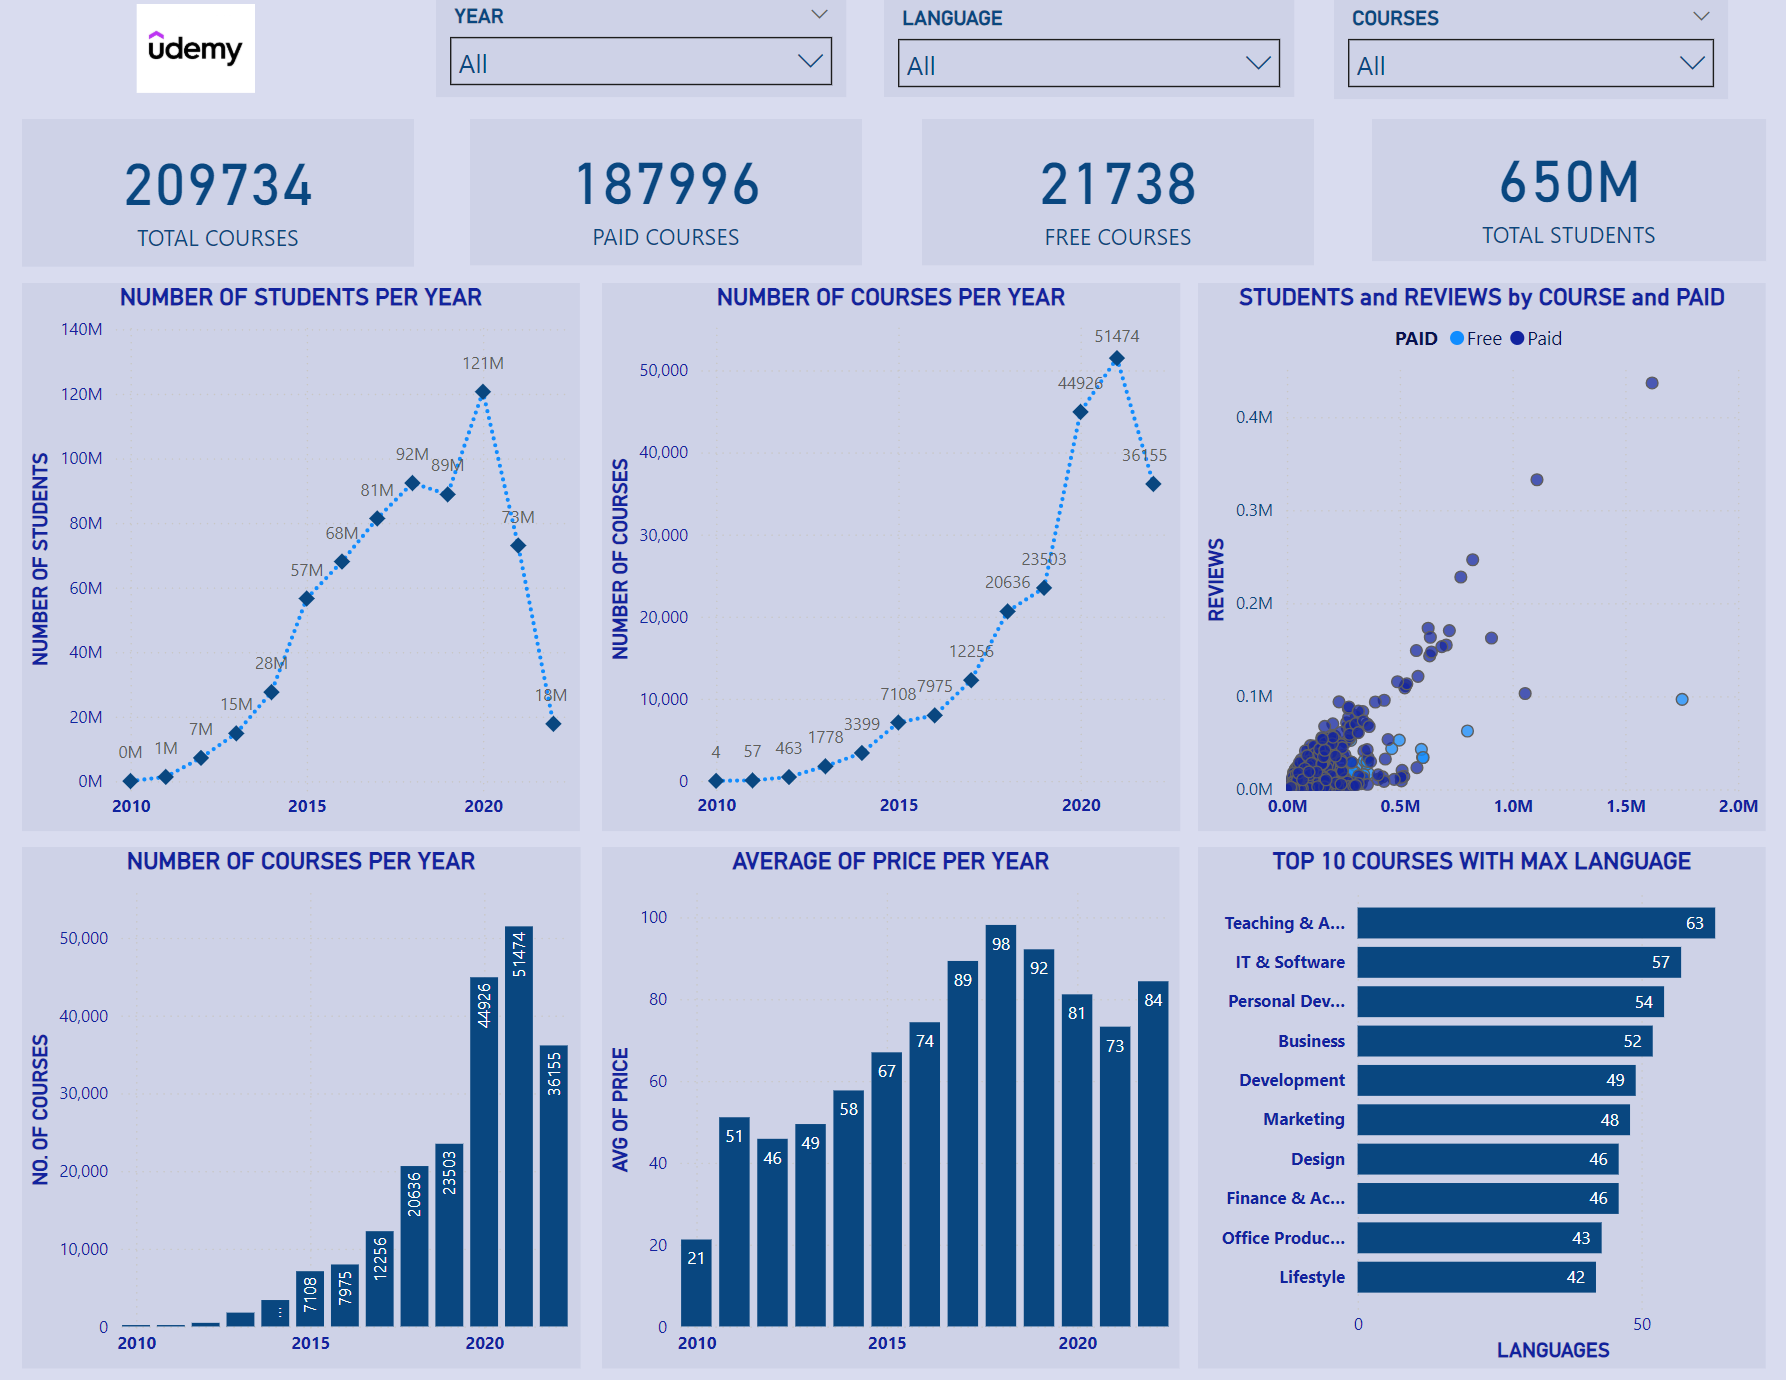

Layout of this report page (visuals, bound fields, positions):
{"tool":"powerbi","page":{"name":"DASHBOARD","canvas":[1280,990],"ordinal":0},"visuals":[{"type":"card","fields":{"Values":["CountNonNull(Course_info.id)"]},"box":[17.9,86.4,280,105.7],"z":0},{"type":"card","fields":{"Values":["CountNonNull(Course_info.id)"]},"box":[660.7,86.4,280,104.3],"z":1000},{"type":"card","fields":{"Values":["CountNonNull(Course_info.id)"]},"box":[339.3,86.4,280,104.3],"z":2000},{"type":"slicer","fields":{"Values":["Course_info.language"]},"box":[634.8,1.4,292.9,70],"z":3000},{"type":"image","box":[0,0,285.2,73.4],"z":4000},{"type":"slicer","fields":{"Values":["Course_info.category"]},"box":[955.7,1.4,281.4,71.4],"z":5000},{"type":"pivotTable","fields":{"Rows":["Course_info.subcategory","Course_info.topic"],"Values":["CountNonNull(Course_info.id)"]},"box":[18,203.5,443.1,391.8],"z":6000},{"type":"barChart","title":"TOP 10 COURSES WITH MAX LANGUAGE","fields":{"Y":["Count(Course_info.language)"],"Category":["Course_info.category"]},"box":[858.5,607.8,405.7,372.5],"z":7000},{"type":"card","fields":{"Values":["Sum(Course_info.num_subscribers)"]},"box":[982.1,86.4,281.4,101.4],"z":8000},{"type":"clusteredColumnChart","title":"NUMBER OF COURSES PER YEAR","fields":{"Y":["CountNonNull(Course_info.id)"],"Category":["Course_info.Year"]},"box":[18,607.8,398.8,372.5],"z":9000},{"type":"slicer","fields":{"Values":["Course_info.Year"]},"box":[313.8,0,292.9,71.4],"z":10000},{"type":"columnChart","title":"AVERAGE OF PRICE PER YEAR","fields":{"Y":["Avg(Course_info.price)"],"Category":["Course_info.Year"]},"box":[433.4,607.8,412.6,372.5],"z":11000},{"type":"lineChart","title":"NUMBER OF COURSES PER YEAR","fields":{"Category":["Course_info.Year"],"Y":["Count(Course_info.id)"]},"box":[477.7,203.5,390.5,391.8],"z":12000},{"type":"scatterChart","fields":{"X":["Course_info.STUDENTS"],"Y":["Course_info.num_reviews"],"Series":["Course_info.PAID"],"Category":["Course_info.title"]},"box":[880,204.3,384.3,391.4],"z":13000}]}

Visuals, with their boxes in screenshot pixels (x1, y1, x2, y2), scaled from the page's 1280x990 canvas onto the 1786x1380 screenshot:
card - CountNonNull(Course_info.id): crop(25, 120, 416, 268)
card - CountNonNull(Course_info.id): crop(922, 120, 1313, 266)
card - CountNonNull(Course_info.id): crop(473, 120, 864, 266)
slicer - Course_info.language: crop(886, 2, 1294, 100)
image: crop(0, 0, 398, 102)
slicer - Course_info.category: crop(1334, 2, 1726, 101)
pivotTable - Course_info.subcategory x Course_info.topic: crop(25, 284, 643, 830)
"TOP 10 COURSES WITH MAX LANGUAGE" barChart: crop(1198, 847, 1764, 1366)
card - Sum(Course_info.num_subscribers): crop(1370, 120, 1763, 262)
"NUMBER OF COURSES PER YEAR" clusteredColumnChart: crop(25, 847, 582, 1366)
slicer - Course_info.Year: crop(438, 0, 847, 100)
"AVERAGE OF PRICE PER YEAR" columnChart: crop(605, 847, 1180, 1366)
"NUMBER OF COURSES PER YEAR" lineChart: crop(667, 284, 1211, 830)
scatterChart - Course_info.STUDENTS x Course_info.num_reviews: crop(1228, 285, 1764, 830)
